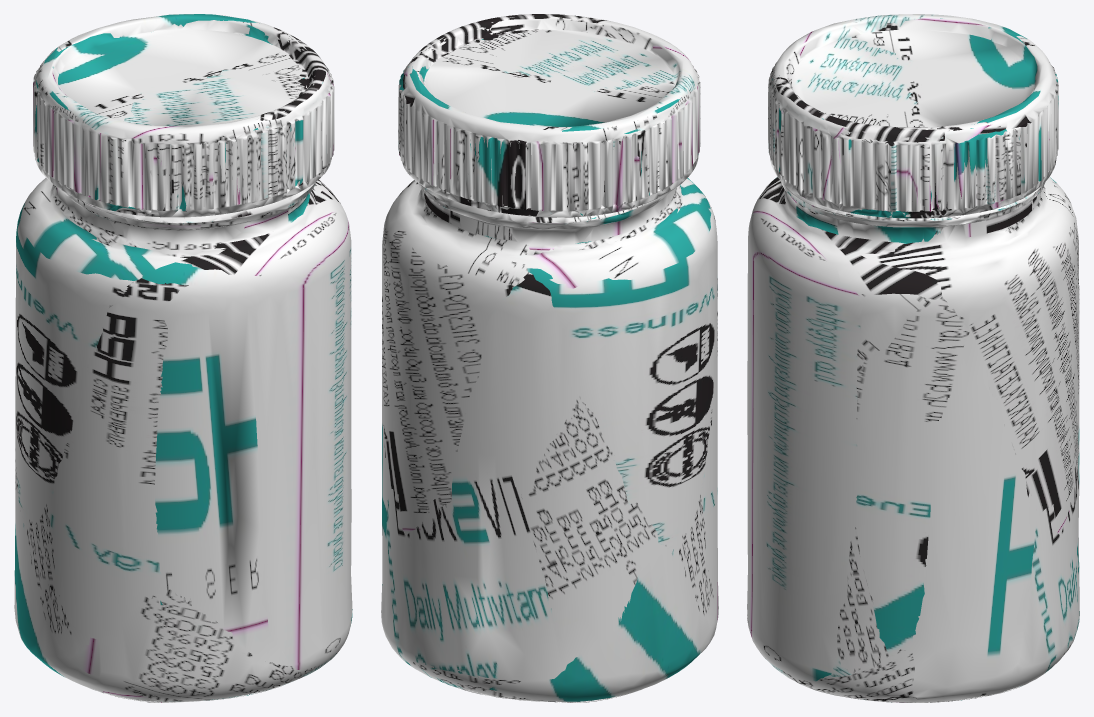
File: multivitamin_final.glb
3 renders of one model, left to right at view 1: azimuth 30°, elevation 25°; view 2: azimuth 150°, elevation 25°; view 3: azimuth 270°, elevation 25°, orthographic.
Visible parts, largest first — view 1: node_0; view 2: node_0; view 3: node_0.
Boxes of the visible parts, <box> form: node_0: <box>14,14,352,702</box>; node_0: <box>381,14,718,702</box>; node_0: <box>747,14,1079,702</box>.
Size of the model in its own units: 0.5762 by 1.08 by 0.5717.
1 material, 1 textured.
